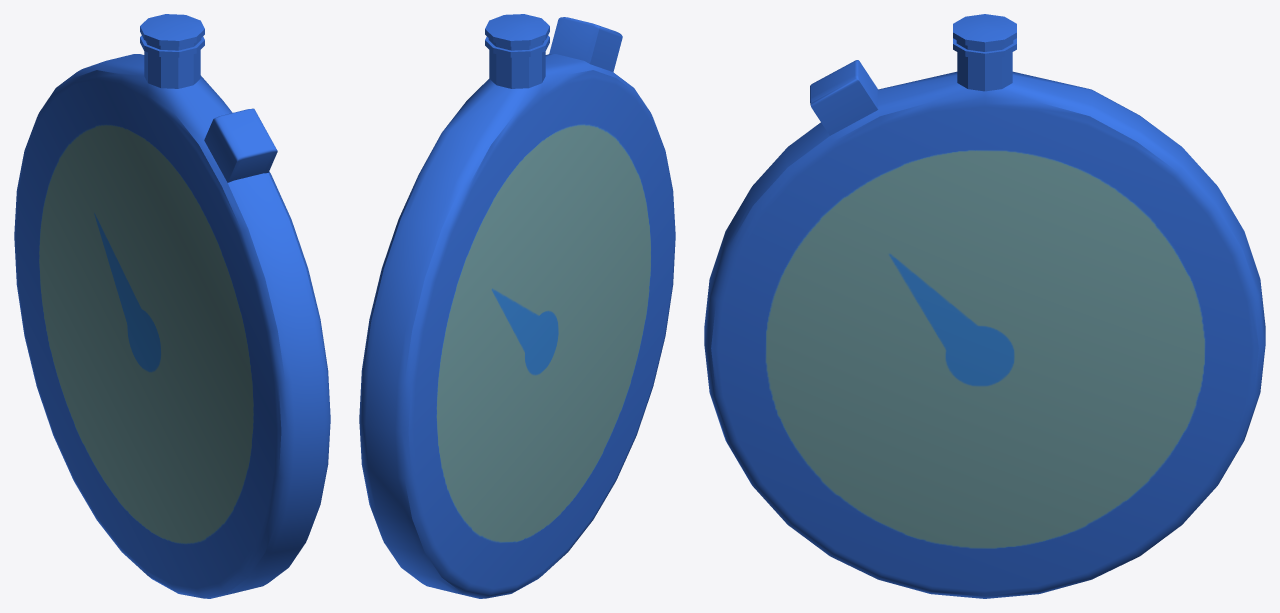
File: timer.fbx
3 renders of one model, left to right at view 1: azimuth 30°, elevation 25°; view 2: azimuth 150°, elevation 25°; view 3: azimuth 270°, elevation 25°, orthographic. The views are drawn at different scales.
Visible parts, largest first — view 1: Cylinder.001; view 2: Cylinder.001; view 3: Cylinder.001.
Part boxes in pixels (box(x1,y1,x2,y2)): Cylinder.001: box(14, 14, 330, 598); Cylinder.001: box(359, 14, 675, 598); Cylinder.001: box(704, 14, 1265, 598).
Bounding box in the file's own units: 23.85 × 222 × 200.
Materials: 1 (1 with a texture image).
